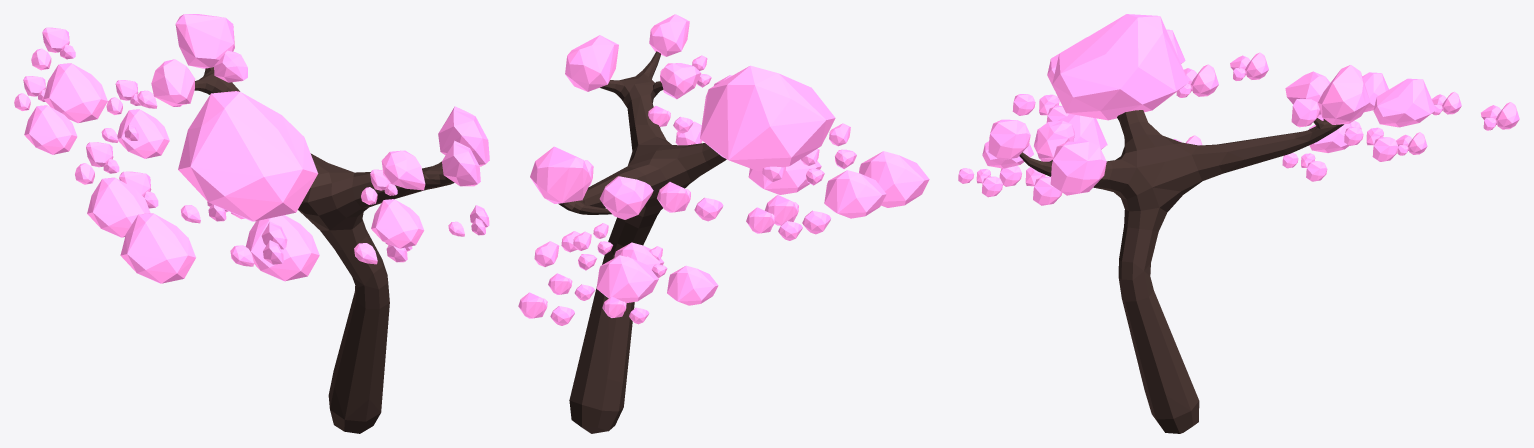
The model's file is sakura.glb.
3 views of the same model, side by side, from view 1: azimuth 30°, elevation 25°; view 2: azimuth 150°, elevation 25°; view 3: azimuth 270°, elevation 25° (orthographic). The views are drawn at different scales.
Visible parts, largest first — view 1: Blossom, Trunk, BlossomHang_2, BlossomHang_1, BlossomHang_4, BlossomHang_5, BlossomHang_3, BlossomHang_0, BlossomHang_6; view 2: Blossom, Trunk, BlossomHang_2, BlossomHang_1, BlossomHang_4, BlossomHang_5, BlossomHang_0, BlossomHang_6, BlossomHang_3; view 3: Trunk, Blossom, BlossomHang_1, BlossomHang_5, BlossomHang_2, BlossomHang_6, BlossomHang_3, BlossomHang_0, BlossomHang_4.
Boxes of the visible parts, left/top/right/bottom form: Blossom: left=151, top=14, right=489, bottom=221; Trunk: left=194, top=67, right=454, bottom=433; BlossomHang_2: left=119, top=171, right=287, bottom=283; BlossomHang_1: left=31, top=27, right=181, bottom=123; BlossomHang_4: left=75, top=142, right=228, bottom=237; BlossomHang_5: left=231, top=212, right=412, bottom=281; BlossomHang_3: left=361, top=169, right=489, bottom=248; BlossomHang_0: left=14, top=76, right=138, bottom=154; BlossomHang_6: left=106, top=80, right=169, bottom=158; Blossom: left=530, top=14, right=835, bottom=219; Trunk: left=558, top=51, right=726, bottom=433; BlossomHang_2: left=765, top=123, right=929, bottom=234; BlossomHang_1: left=518, top=231, right=658, bottom=325; BlossomHang_4: left=746, top=148, right=886, bottom=240; BlossomHang_5: left=657, top=121, right=821, bottom=221; BlossomHang_0: left=602, top=246, right=718, bottom=324; BlossomHang_6: left=548, top=223, right=663, bottom=300; BlossomHang_3: left=648, top=55, right=732, bottom=133; Trunk: left=1019, top=110, right=1343, bottom=433; Blossom: left=988, top=14, right=1370, bottom=195; BlossomHang_1: left=1344, top=78, right=1519, bottom=161; BlossomHang_5: left=999, top=113, right=1202, bottom=205; BlossomHang_2: left=1012, top=37, right=1218, bottom=122; BlossomHang_6: left=1282, top=119, right=1427, bottom=181; BlossomHang_3: left=958, top=141, right=1033, bottom=197; BlossomHang_0: left=1317, top=72, right=1461, bottom=129; BlossomHang_4: left=1166, top=29, right=1268, bottom=80.
Size of the model in its own units: 3.14 by 3.27 by 4.69.
